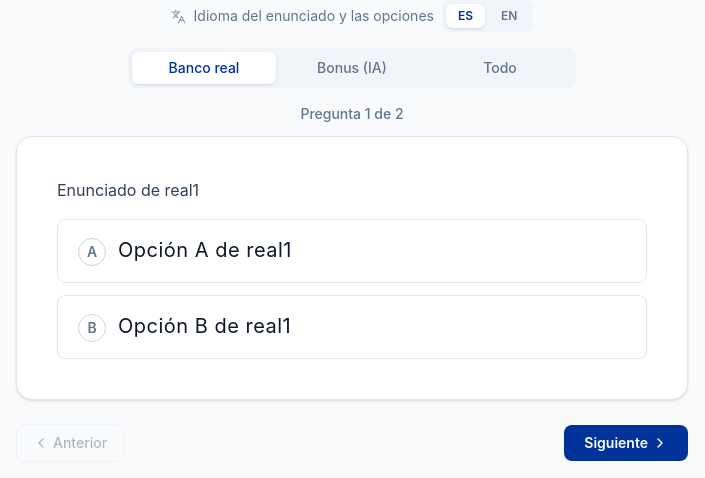
Test: filtro de procedencia › el bonus enseña sólo las generadas
Click the button "Bonus (IA)" at (352, 68), box [280,52,424,84]
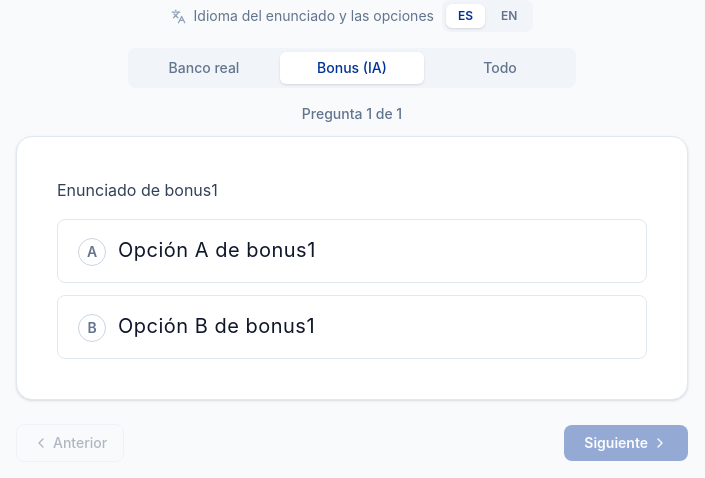
Now the text "Enunciado de bonus1" is shown, box [57,180,218,200]
